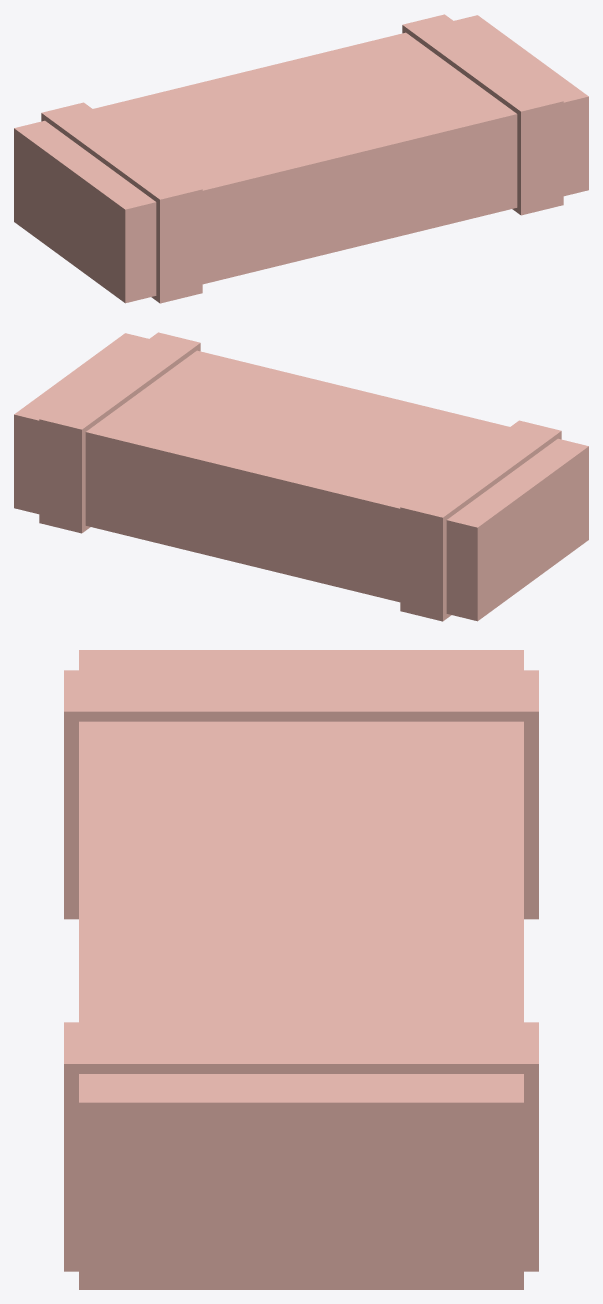
Rendered from Mega_Asset_s_Pack_Cube_294.FBX.
3 renders of one model, top to bottom at view 1: azimuth 30°, elevation 25°; view 2: azimuth 150°, elevation 25°; view 3: azimuth 270°, elevation 25°, orthographic. The views are drawn at different scales.
Parts seen in each view (by area): view 1: Mega_Asset_s_Pack_Cube_294; view 2: Mega_Asset_s_Pack_Cube_294; view 3: Mega_Asset_s_Pack_Cube_294.
Boxes of the visible parts, bbox=[...] form: Mega_Asset_s_Pack_Cube_294: bbox=[14, 14, 588, 303]; Mega_Asset_s_Pack_Cube_294: bbox=[14, 332, 588, 621]; Mega_Asset_s_Pack_Cube_294: bbox=[64, 650, 538, 1289].
Size of what is drawn, in the model's own units: 275 by 122 by 58.78.
